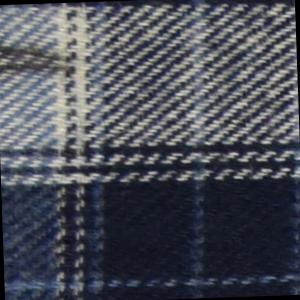Stain: (1, 39, 82, 80)
